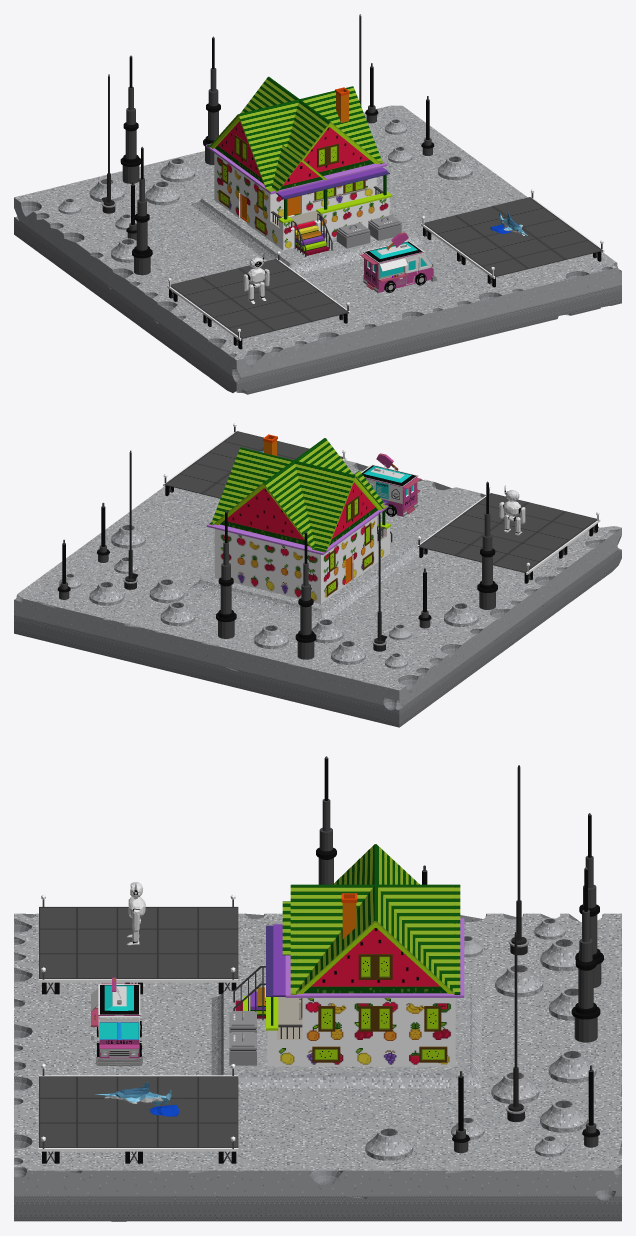
The picture shows the model from 3 angles, top to bottom: view 1: azimuth 30°, elevation 25°; view 2: azimuth 150°, elevation 25°; view 3: azimuth 270°, elevation 25°; orthographic projection. The views are drawn at different scales.
Parts seen in each view (by area): view 1: Cube.027, Cube.1063, Cube.026, Cube.025, Cube.028, VEHICLES_ICE_CREAM_TRUCK, Cylinder.020, Cylinder.021, Cylinder.017, OBJRANDOM_PLATZEEBOT, Cube.029, Cube.030 (+4 smaller); view 2: Cube.027, Cube.1063, Cube.025, Cube.028, Cube.026, VEHICLES_ICE_CREAM_TRUCK, Cylinder.020, Cylinder.021, Cylinder.017, OBJRANDOM_PLATZEEBOT, Cylinder.031, Cylinder.028 (+8 smaller); view 3: Cube.027, Cube.1063, Cube.025, Cube.026, Cube.028, VEHICLES_ICE_CREAM_TRUCK, Cylinder.017, Cylinder.020, Cylinder.021, Cylinder.033, Cylinder.031, Cylinder.029 (+11 smaller).
Boxes of the visible parts, x1,y1,x2,y2 form: Cube.027: (14, 105, 621, 394); Cube.1063: (205, 76, 392, 256); Cube.026: (421, 189, 604, 287); Cube.025: (167, 251, 350, 349); Cube.028: (191, 195, 424, 274); VEHICLES_ICE_CREAM_TRUCK: (360, 232, 437, 292); Cylinder.020: (120, 55, 140, 183); Cylinder.021: (132, 146, 152, 275); Cylinder.017: (203, 36, 220, 164); OBJRANDOM_PLATZEEBOT: (243, 252, 269, 303); Cube.029: (336, 222, 370, 248); Cube.030: (368, 215, 401, 240); Cube.027: (14, 460, 621, 727); Cube.1063: (206, 434, 392, 603); Cube.025: (417, 485, 600, 583); Cube.028: (190, 538, 419, 620); Cube.026: (163, 423, 346, 498); VEHICLES_ICE_CREAM_TRUCK: (361, 453, 420, 516); Cylinder.020: (295, 531, 316, 659); Cylinder.021: (477, 481, 497, 609); Cylinder.017: (216, 510, 236, 638); OBJRANDOM_PLATZEEBOT: (499, 485, 525, 535); Cylinder.031: (89, 581, 124, 605); Cylinder.028: (331, 640, 365, 664); Cube.027: (14, 913, 621, 1221); Cube.1063: (233, 844, 464, 1066); Cube.025: (39, 894, 238, 994); Cube.026: (39, 1064, 238, 1163); Cube.028: (211, 990, 481, 1088); VEHICLES_ICE_CREAM_TRUCK: (91, 977, 147, 1066); Cylinder.017: (571, 867, 600, 1042); Cylinder.020: (575, 813, 603, 987); Cylinder.021: (316, 756, 336, 884); Cylinder.033: (365, 1127, 413, 1160); Cylinder.031: (540, 1099, 587, 1132); Cylinder.029: (548, 1050, 596, 1083).
Bounding box in the file's own units: 4000 × 1772 × 4000.
42 materials, 6 textured.
